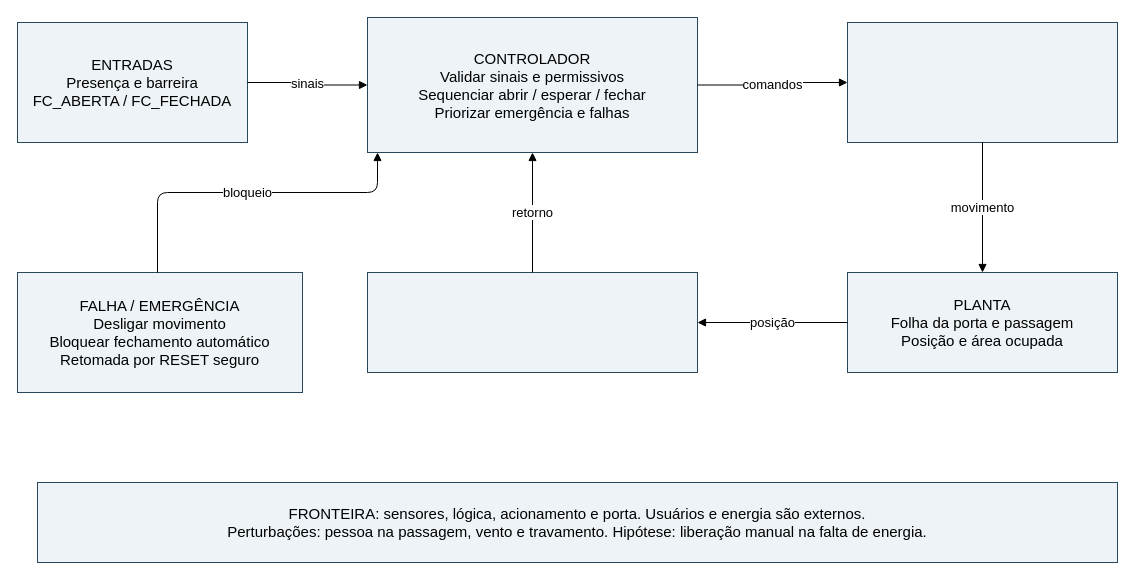
Image size: 1135x580. Some labels were removed from this diagram. The shapes that lost their labels are listed below. From the top down, each one's centre as x and y in pixels, then its label:
At point (982, 82): "ATUAÇÃO ABRIR / FECHAR Motor e acionamento".
At point (532, 322): "REALIMENTAÇÃO Fim de curso e barreira Confirmação de movimento".
